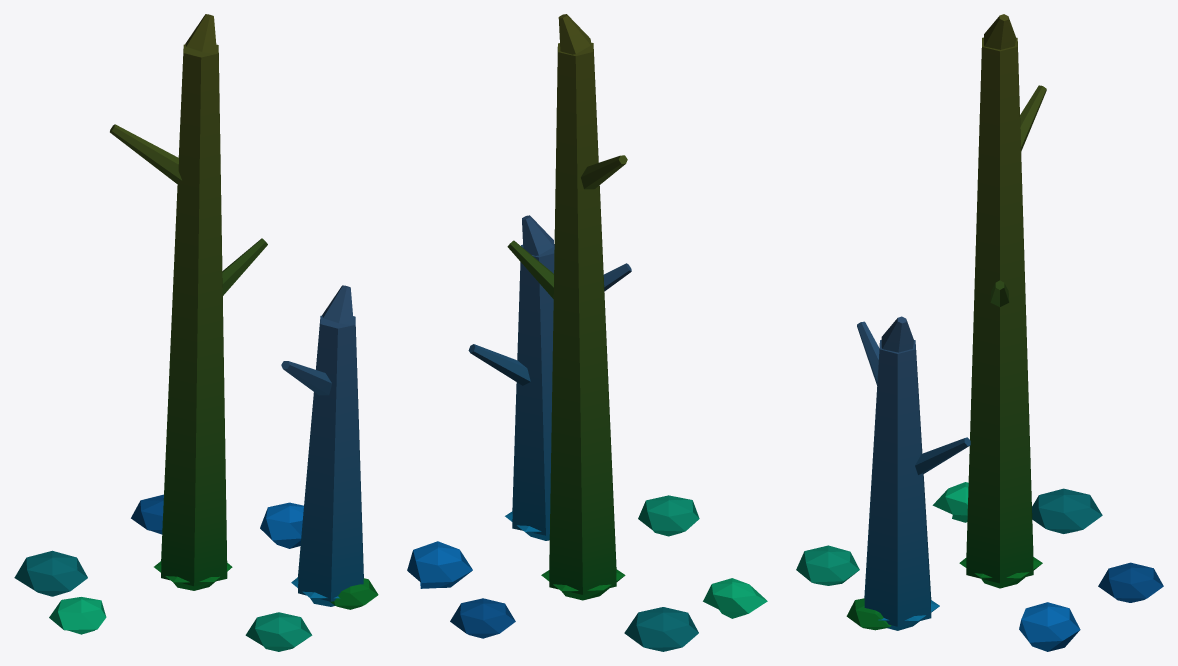
Rendered from charred_03.glb.
3 views of the same model, side by side, from view 1: azimuth 30°, elevation 25°; view 2: azimuth 150°, elevation 25°; view 3: azimuth 270°, elevation 25° (orthographic).
Parts seen in each view (by area): view 1: charred_03; view 2: charred_03; view 3: charred_03.
Part boxes in pixels (x1,y1,x2,y2): charred_03: [14, 14, 378, 651]; charred_03: [407, 14, 767, 651]; charred_03: [796, 14, 1163, 651].
Size of the model in its own units: 0.852 by 1.53 by 0.8864.
